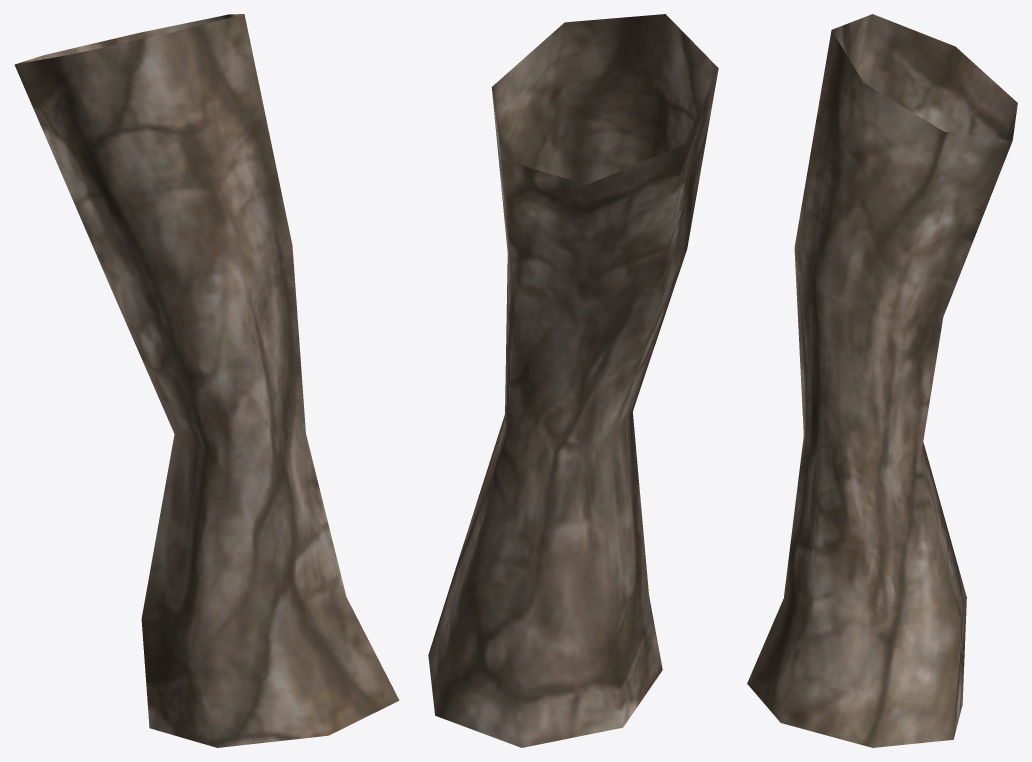
Rendered from EKH_JAIL_PS_JA_PILLAR9383777.fbx.
3 renders of one model, left to right at view 1: azimuth 30°, elevation 25°; view 2: azimuth 150°, elevation 25°; view 3: azimuth 270°, elevation 25°, orthographic. The views are drawn at different scales.
Parts seen in each view (by area): view 1: EKH_JAIL_PS_JA_PILLAR9383777; view 2: EKH_JAIL_PS_JA_PILLAR9383777; view 3: EKH_JAIL_PS_JA_PILLAR9383777.
Part boxes in pixels (<box>): EKH_JAIL_PS_JA_PILLAR9383777: <box>14,14,399,747</box>; EKH_JAIL_PS_JA_PILLAR9383777: <box>428,14,718,747</box>; EKH_JAIL_PS_JA_PILLAR9383777: <box>747,14,1017,747</box>.
Size of the model in its own units: 19480 by 43315 by 16556.
1 material, 1 textured.
